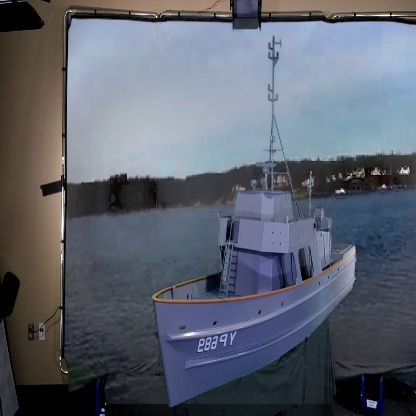YP689: (152, 35, 355, 404)
